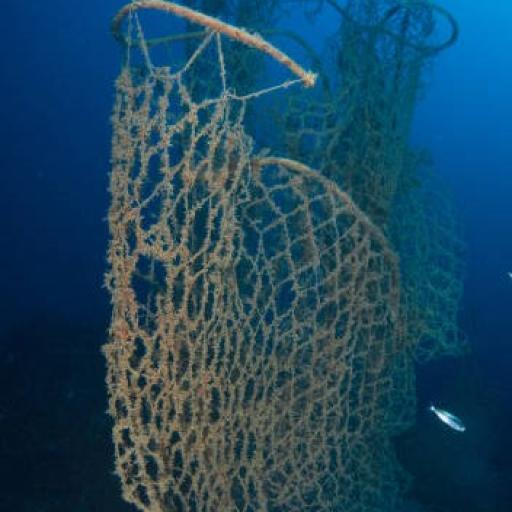net: (100, 4, 473, 512)
